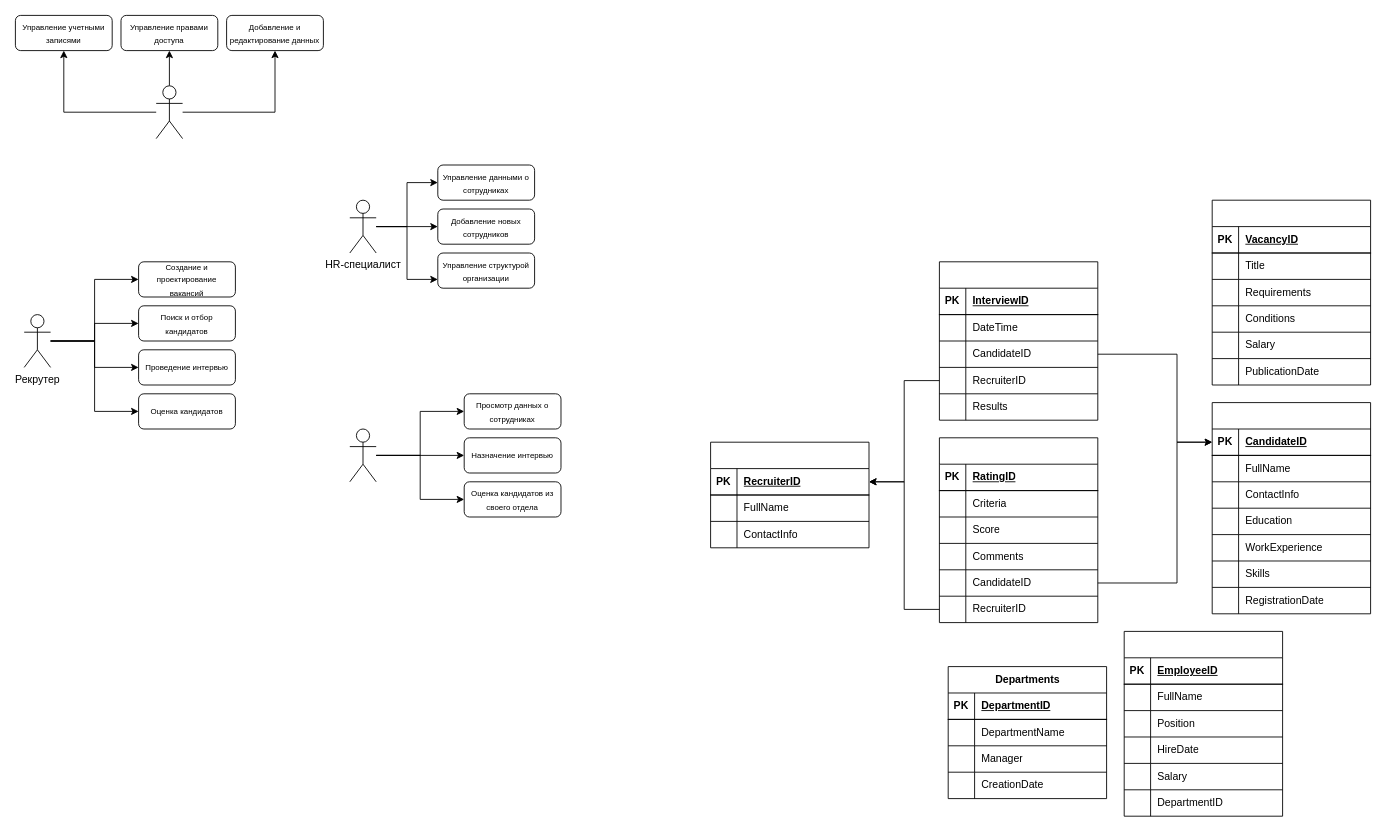
This 1386x832 diagram has some shape labels left out. Each missing label, with the box of its shape:
Candidates: (1211, 402, 1371, 614)
Employees: (1123, 631, 1283, 816)
Interviews: (939, 261, 1098, 420)
Ratings: (939, 437, 1098, 623)
Recruiters: (710, 441, 869, 548)
Vacancies: (1211, 199, 1371, 385)
Администратор: (155, 85, 183, 139)
Руководитель отдела: (349, 428, 376, 482)
